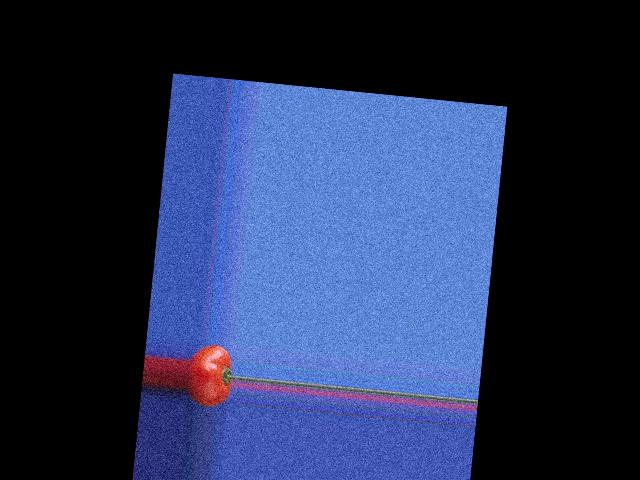tomato: (184, 343, 235, 409)
